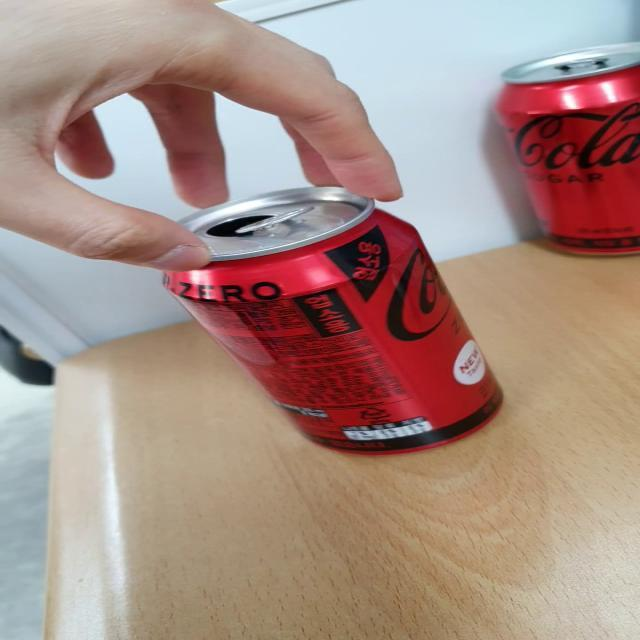coca-cola: (127, 170, 533, 458), (468, 34, 640, 278)
